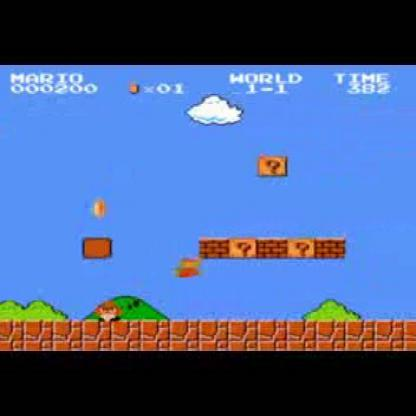Goomba: (92, 298, 122, 322)
